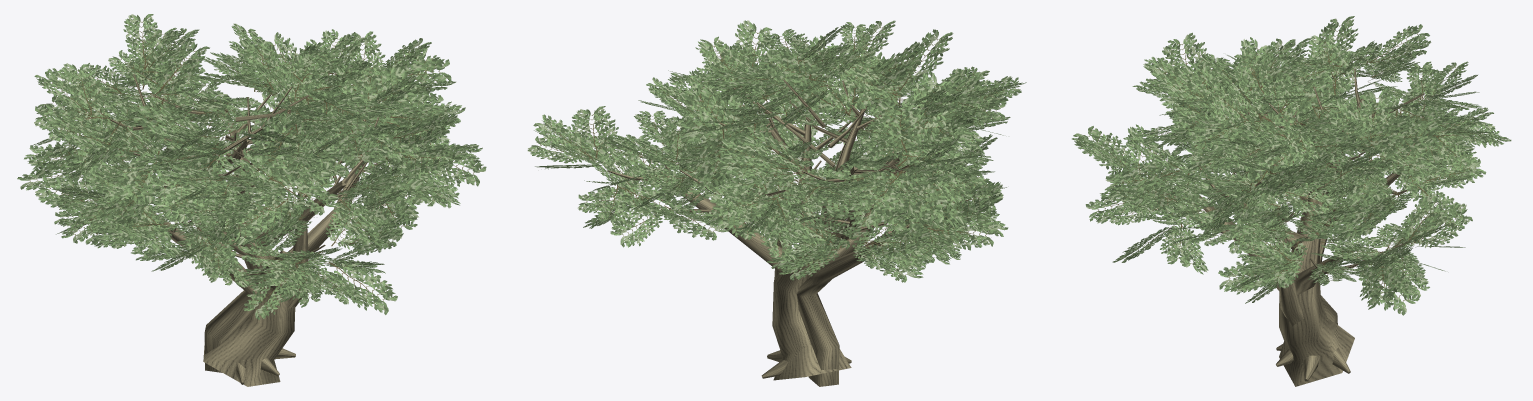
File: olive_far.glb
The picture shows the model from 3 angles, left to right: view 1: azimuth 30°, elevation 25°; view 2: azimuth 150°, elevation 25°; view 3: azimuth 270°, elevation 25°; orthographic projection. The views are drawn at different scales.
Visible parts, largest first — view 1: olive_far; view 2: olive_far; view 3: olive_far.
Part boxes in pixels (x1,y1,x2,y2): olive_far: [17, 14, 486, 386]; olive_far: [527, 20, 1026, 386]; olive_far: [1072, 16, 1511, 386].
Size of the model in its own units: 7.11 by 5.1 by 6.84.
2 materials, 2 textured.
